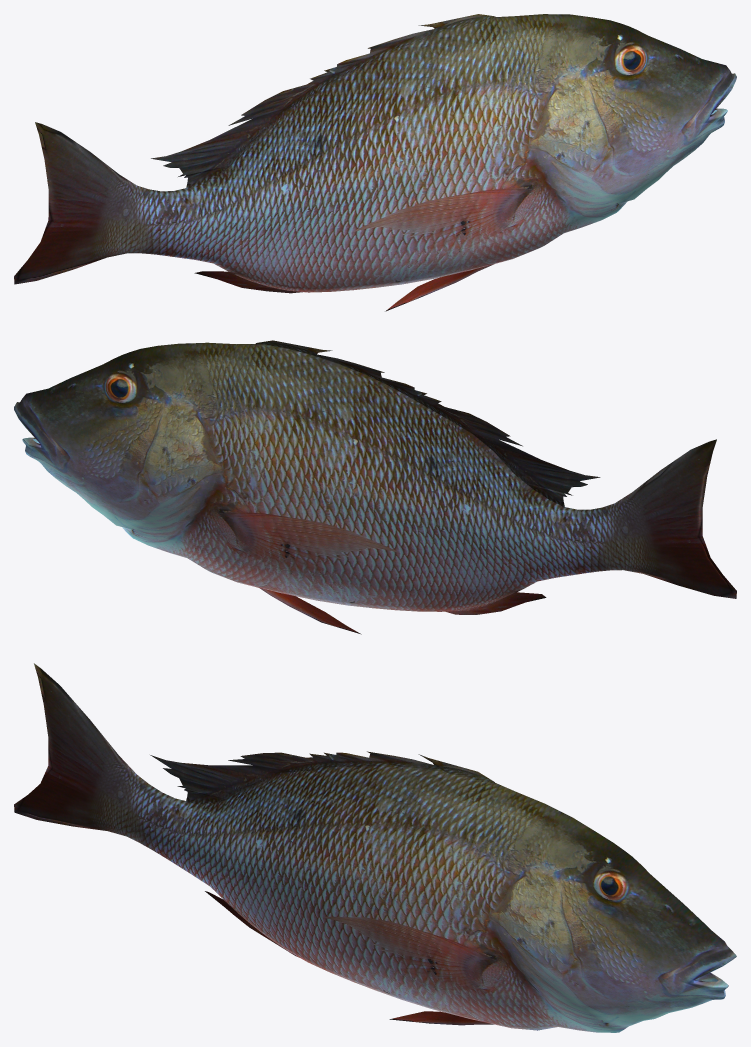
File: fish.glb
3 views of the same model, one above another, from view 1: azimuth 30°, elevation 25°; view 2: azimuth 150°, elevation 25°; view 3: azimuth 330°, elevation 25° (orthographic). The views are drawn at different scales.
Parts seen in each view (by area): view 1: fish; view 2: fish; view 3: fish.
Part boxes in pixels (x1,y1,x2,y2): fish: (14,14,736,311); fish: (14,340,736,634); fish: (14,663,736,1032).
Size of the model in its own units: 0.5751 by 0.212 by 0.0594.
1 material, 1 textured.
